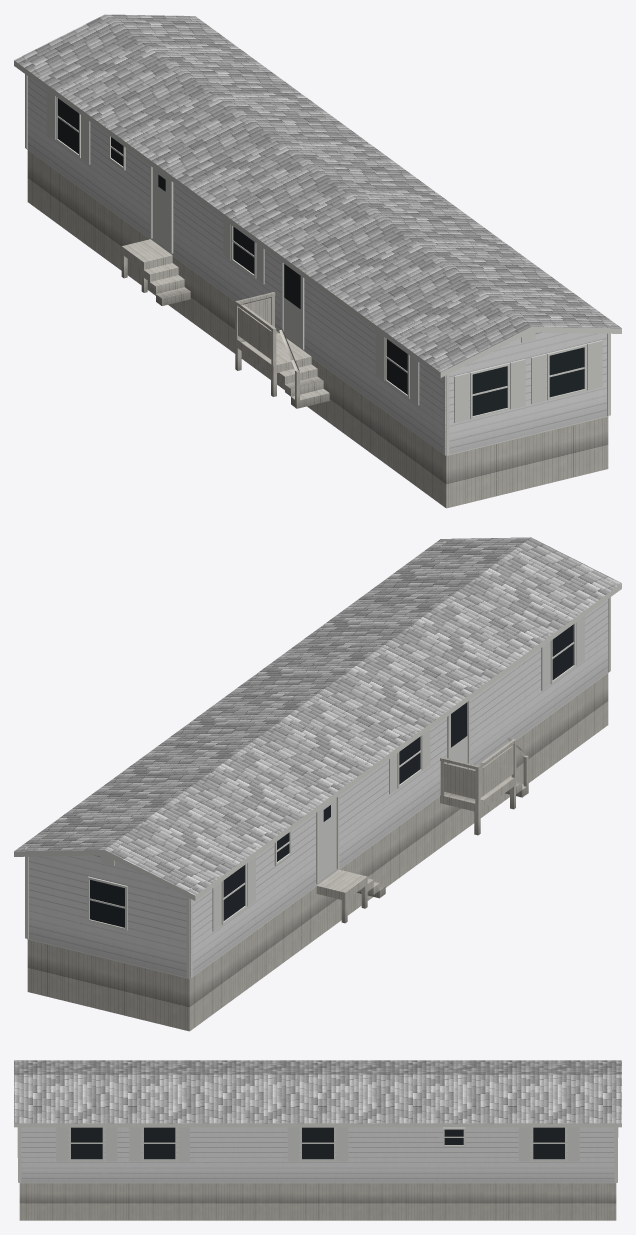
File: mobile-single-c.glb
The picture shows the model from 3 angles, top to bottom: view 1: azimuth 30°, elevation 25°; view 2: azimuth 150°, elevation 25°; view 3: azimuth 270°, elevation 25°; orthographic projection. The views are drawn at different scales.
Parts seen in each view (by area): view 1: Mobile_single_c; view 2: Mobile_single_c; view 3: Mobile_single_c.
Boxes of the visible parts, left/top/right/bottom form: Mobile_single_c: left=14, top=14, right=621, bottom=508; Mobile_single_c: left=14, top=537, right=621, bottom=1031; Mobile_single_c: left=14, top=1060, right=621, bottom=1220.
Bounding box in the file's own units: 5.52 × 4.09 × 19.2.
Materials: 6 (3 with a texture image).
